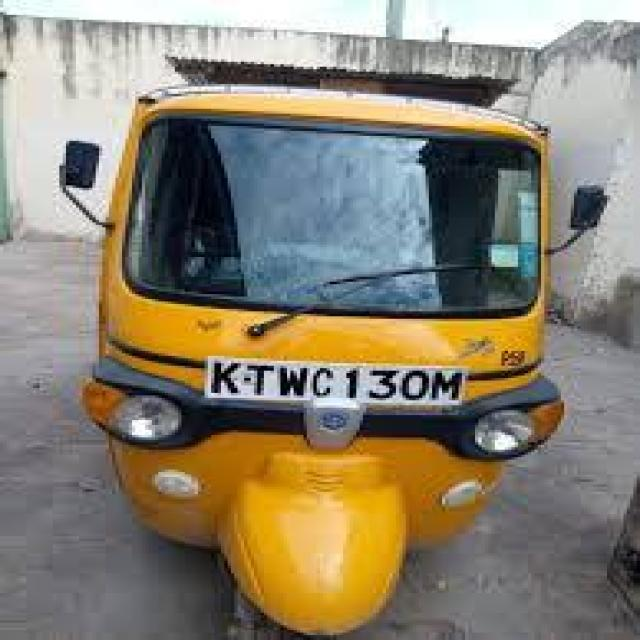tuktuk: (51, 46, 626, 638)
